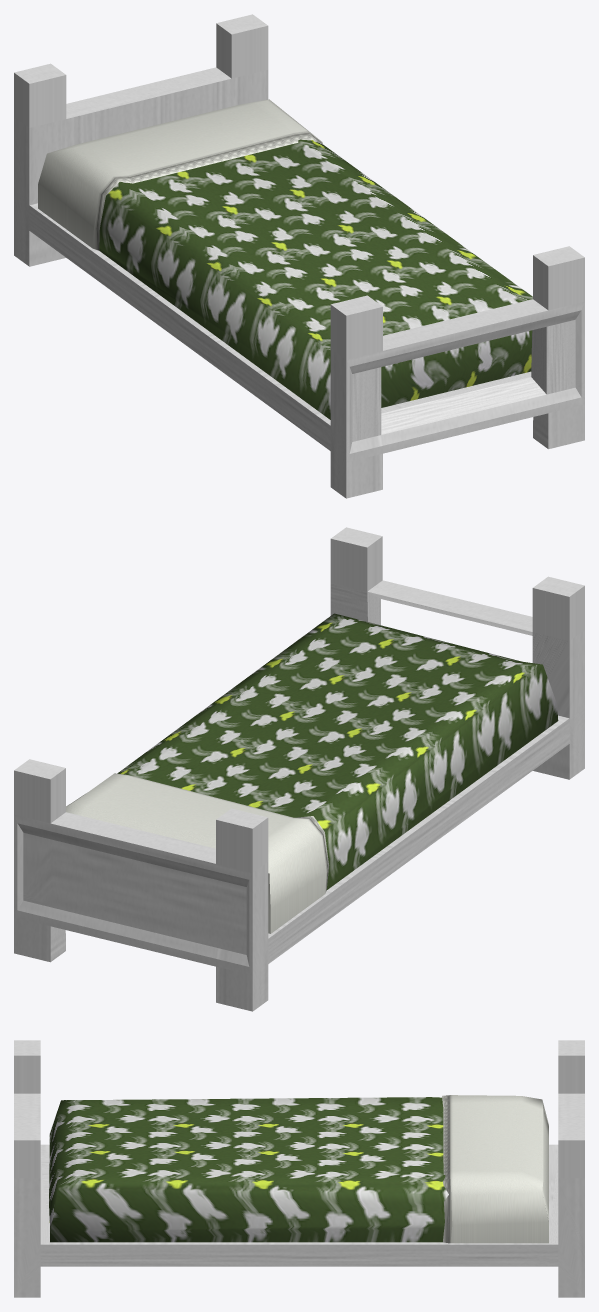
File: Kiddie_Bed_A.FBX
3 views of the same model, one above another, from view 1: azimuth 30°, elevation 25°; view 2: azimuth 150°, elevation 25°; view 3: azimuth 270°, elevation 25° (orthographic). The views are drawn at different scales.
Parts seen in each view (by area): view 1: Kiddie_Bed; view 2: Kiddie_Bed; view 3: Kiddie_Bed.
Boxes of the visible parts, left/top/right/bottom form: Kiddie_Bed: left=14, top=14, right=584, bottom=498; Kiddie_Bed: left=14, top=527, right=584, bottom=1011; Kiddie_Bed: left=14, top=1040, right=584, bottom=1297.
Bounding box in the file's own units: 185 × 135 × 445.
